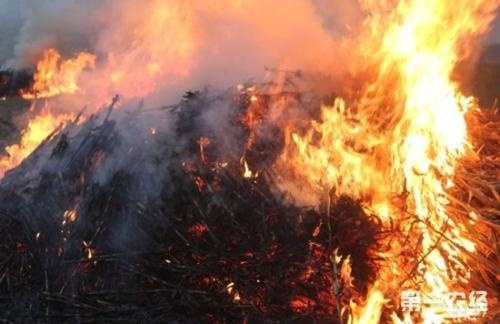fire: (281, 16, 493, 316), (102, 1, 202, 98), (20, 46, 96, 100), (183, 134, 256, 189), (56, 204, 96, 258), (200, 273, 243, 302)
